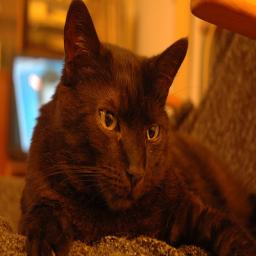catnose: (125, 160, 147, 192)
